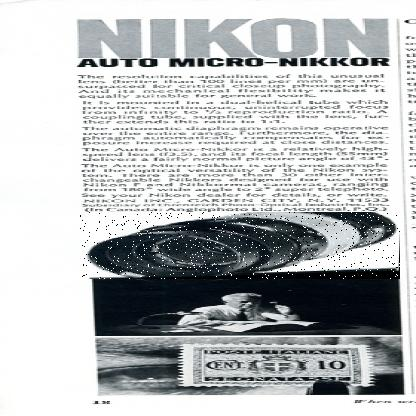Camera: (81, 213, 402, 281)
